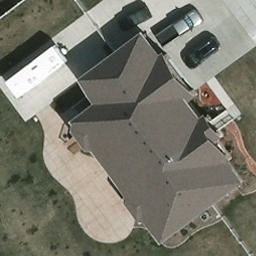camping car: (5, 43, 73, 100)
car: (183, 37, 222, 71), (117, 6, 153, 31)
pickup: (155, 8, 204, 49)
